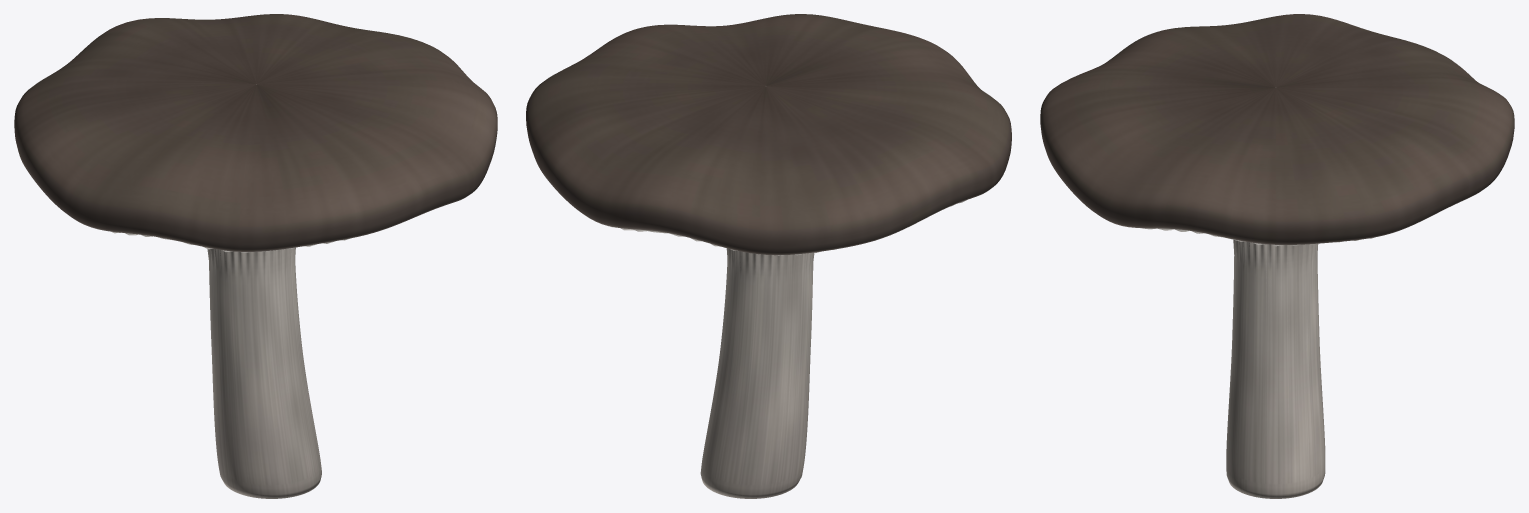
The model's file is hygrophorus-camarophyllus-drawn.glb.
3 views of the same model, side by side, from view 1: azimuth 30°, elevation 25°; view 2: azimuth 150°, elevation 25°; view 3: azimuth 270°, elevation 25° (orthographic). The views are drawn at different scales.
Bounding box in the file's own units: 0.8109 × 0.73 × 0.8131.
1 material, 1 textured.
